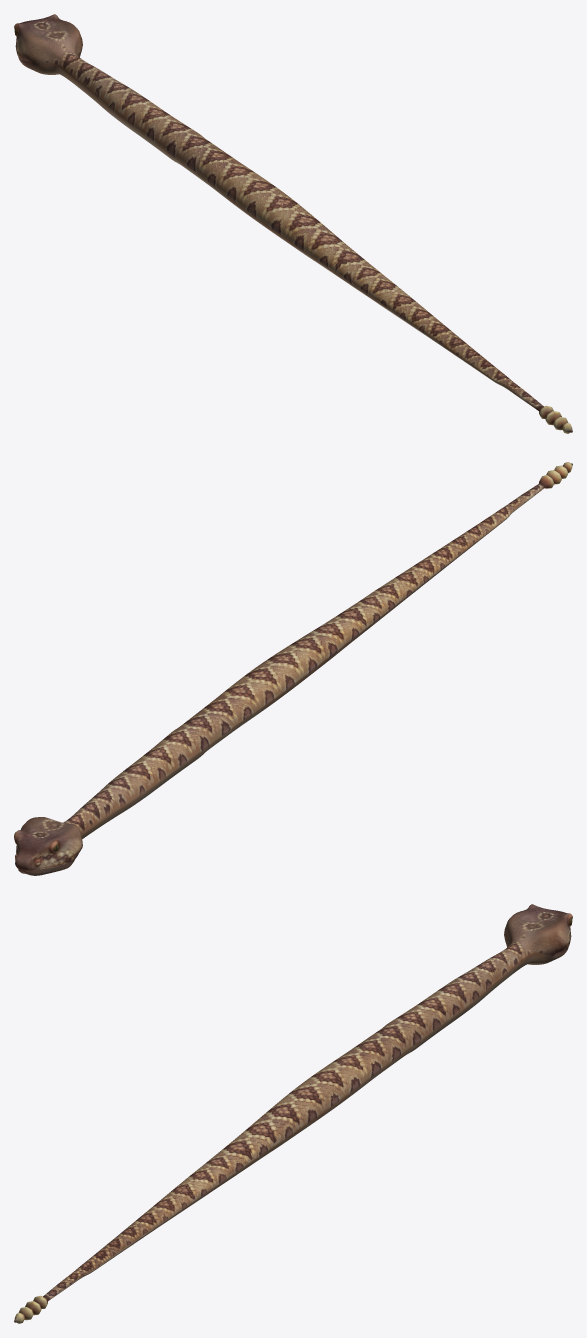
Rendered from S_Cascabel.fbx.
The picture shows the model from 3 angles, top to bottom: view 1: azimuth 30°, elevation 25°; view 2: azimuth 150°, elevation 25°; view 3: azimuth 330°, elevation 25°; orthographic projection.
Visible parts, largest first — view 1: LOW POLY; view 2: LOW POLY; view 3: LOW POLY.
Boxes of the visible parts, x1=… form: LOW POLY: x1=14, y1=14, x2=572, y2=433; LOW POLY: x1=14, y1=462, x2=572, y2=875; LOW POLY: x1=14, y1=904, x2=572, y2=1323.
Bounding box in the file's own units: 355 × 229 × 5822.
